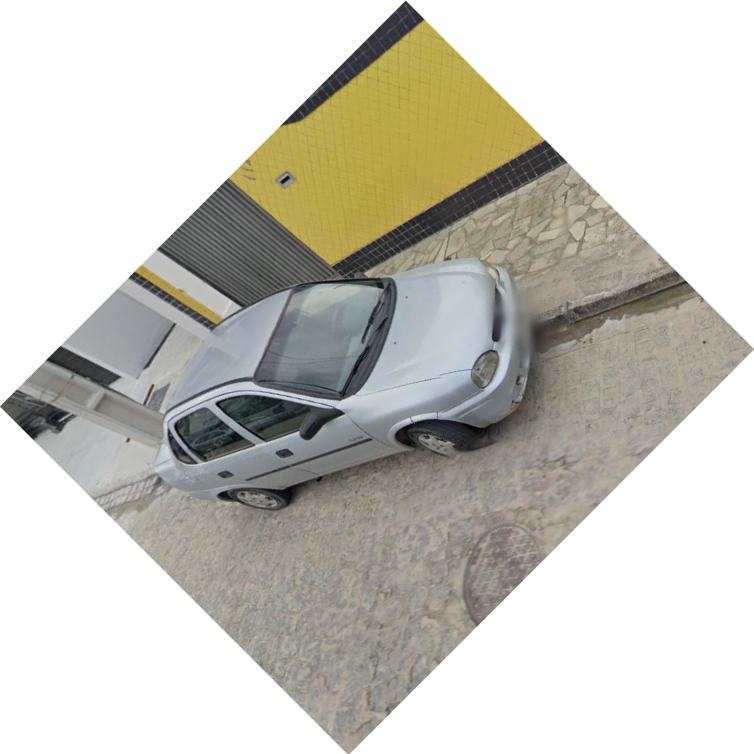car: (150, 254, 534, 514)
